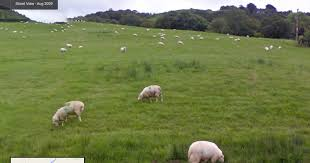sheep: (187, 139, 229, 163), (52, 100, 88, 125), (138, 84, 168, 107), (190, 33, 205, 42), (50, 27, 66, 34), (262, 44, 275, 52), (176, 39, 186, 47), (153, 42, 166, 48), (59, 47, 68, 54), (232, 37, 242, 42), (131, 31, 138, 38), (119, 45, 127, 51), (67, 43, 73, 49)
